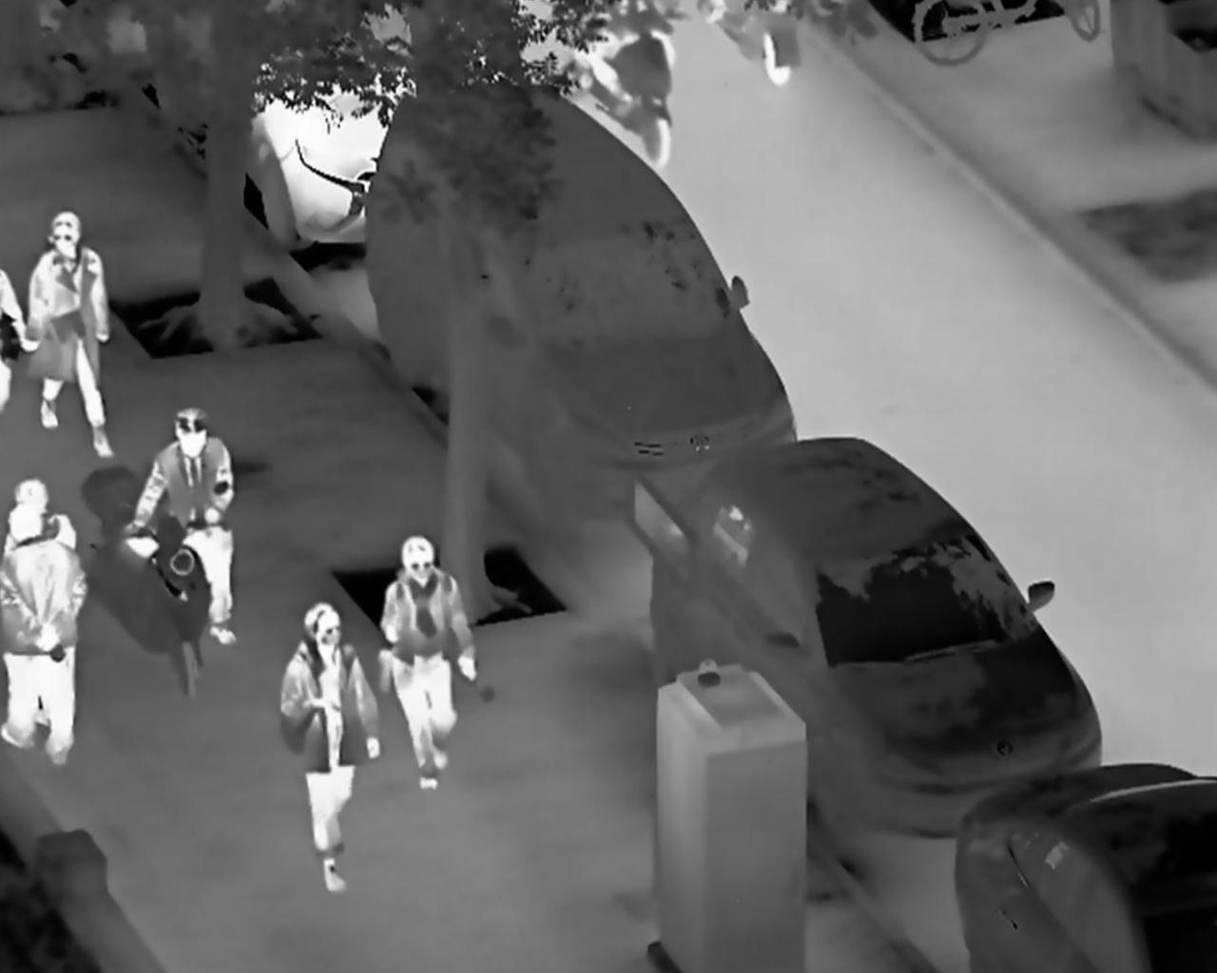person: (275, 603, 380, 895), (380, 533, 480, 798), (129, 405, 237, 647), (21, 208, 118, 458), (2, 506, 87, 769)
